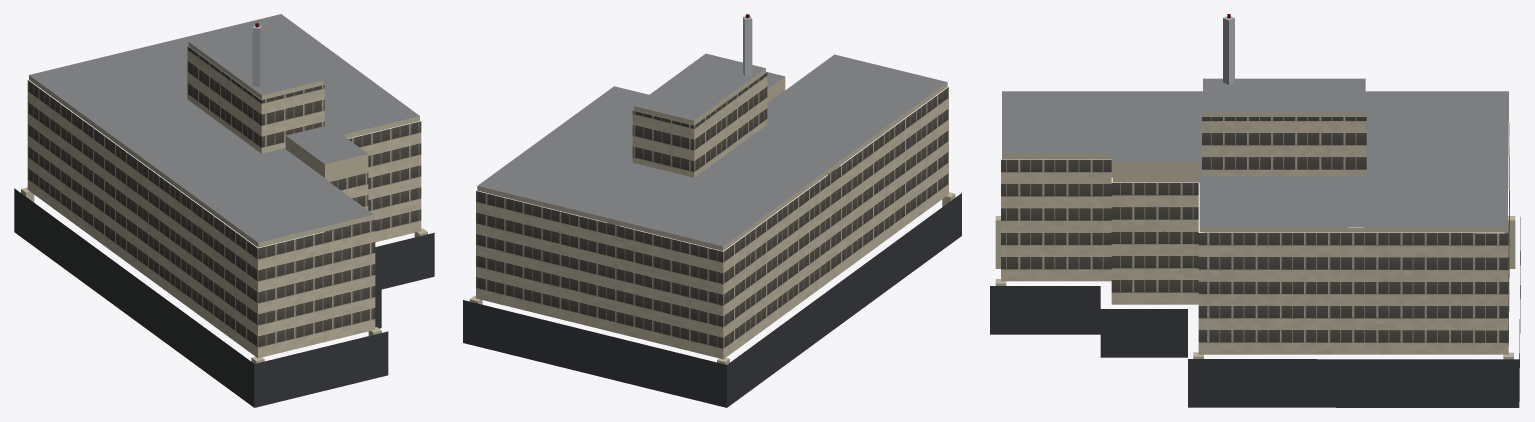
File: tower_north_hall.glb
The picture shows the model from 3 angles, left to right: view 1: azimuth 30°, elevation 25°; view 2: azimuth 150°, elevation 25°; view 3: azimuth 270°, elevation 25°; orthographic projection. The views are drawn at different scales.
Parts seen in each view (by area): view 1: TowerNorthHall_Near; view 2: TowerNorthHall_Near; view 3: TowerNorthHall_Near.
Part boxes in pixels (x1,y1,x2,y2): TowerNorthHall_Near: [14, 14, 434, 407]; TowerNorthHall_Near: [463, 14, 961, 407]; TowerNorthHall_Near: [990, 14, 1520, 407].
Bounding box in the file's own units: 51.41 × 50.55 × 79.11.
Materials: 6 (1 with a texture image).
